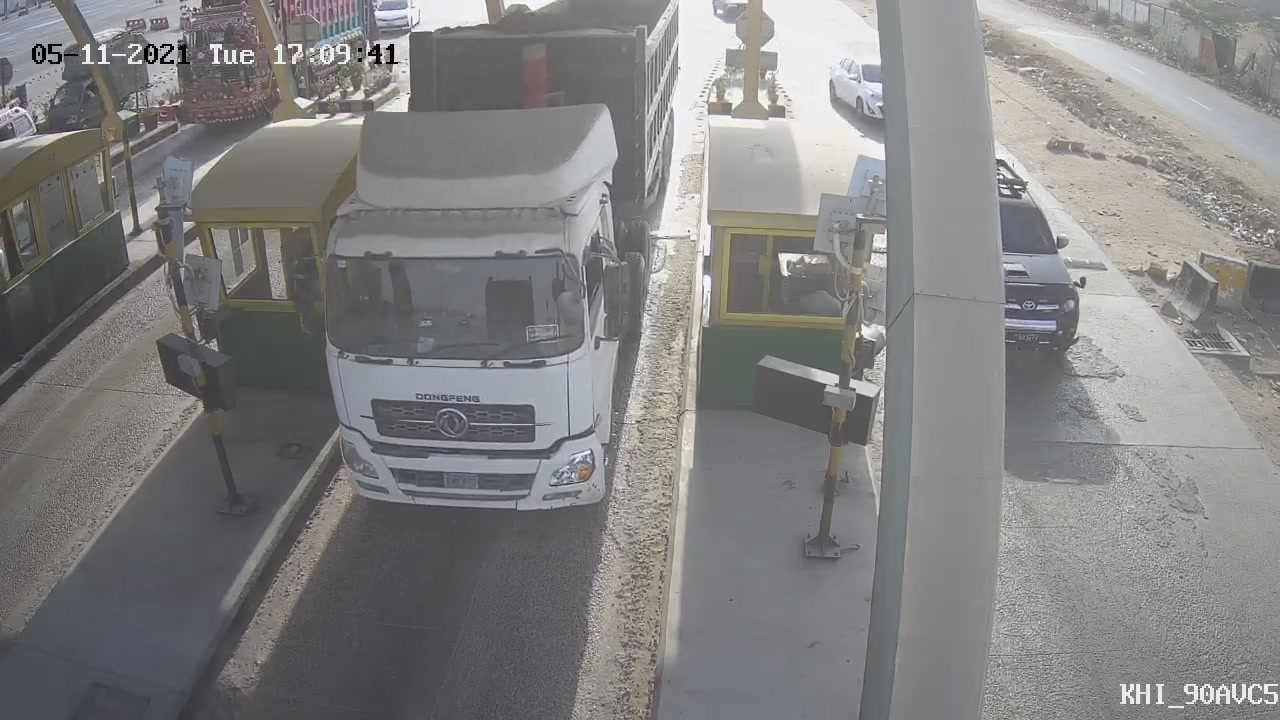F6: (263, 1, 704, 536)
